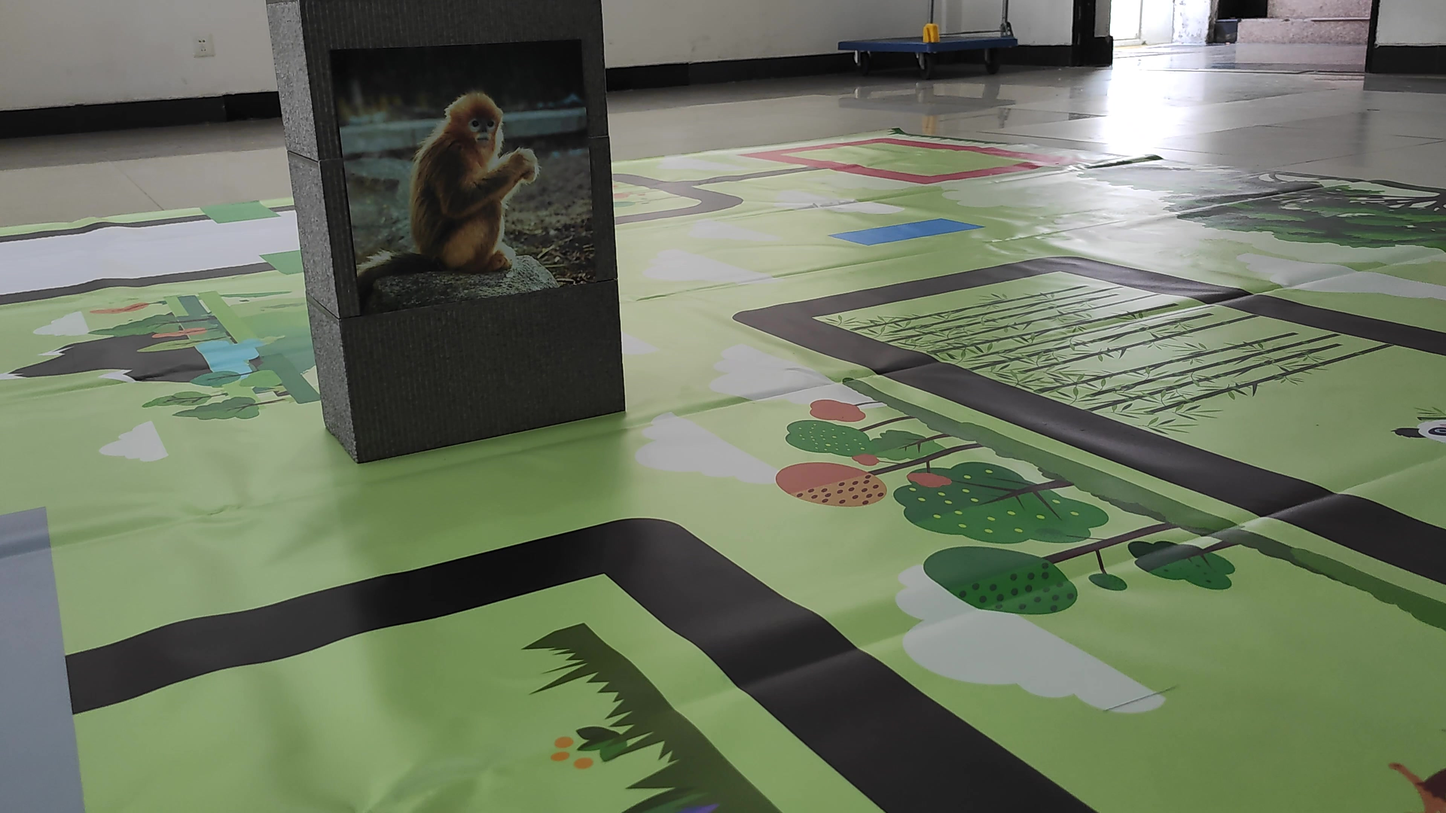monkey: (342, 76, 559, 323)
